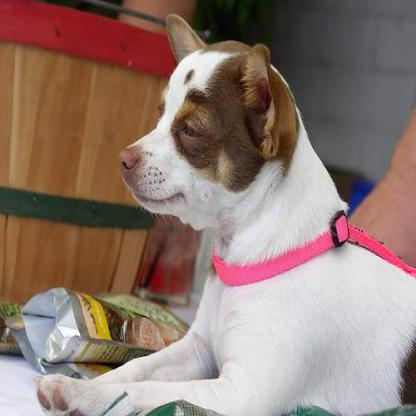dog: (69, 10, 415, 415)
